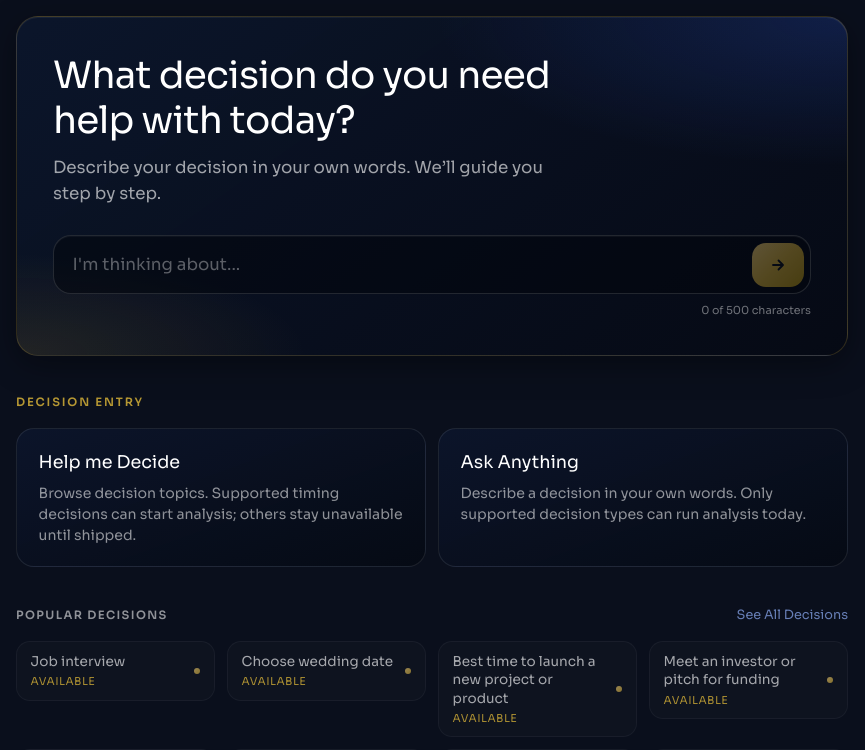
AskScreen › enables submit after typing a question
The width and height of the screenshot is (865, 750).
Type "What should I do today?" into the field named "Describe your decision" at (400, 265), box [54, 236, 745, 293]
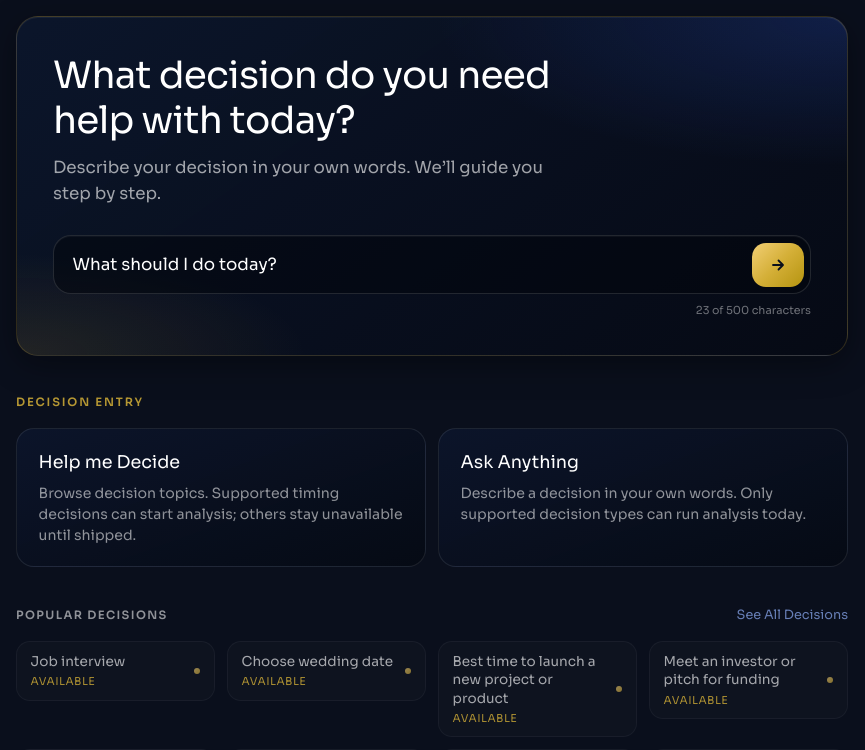
Expected: the button named "Start decision flow" is enabled, [752, 243, 804, 287]
